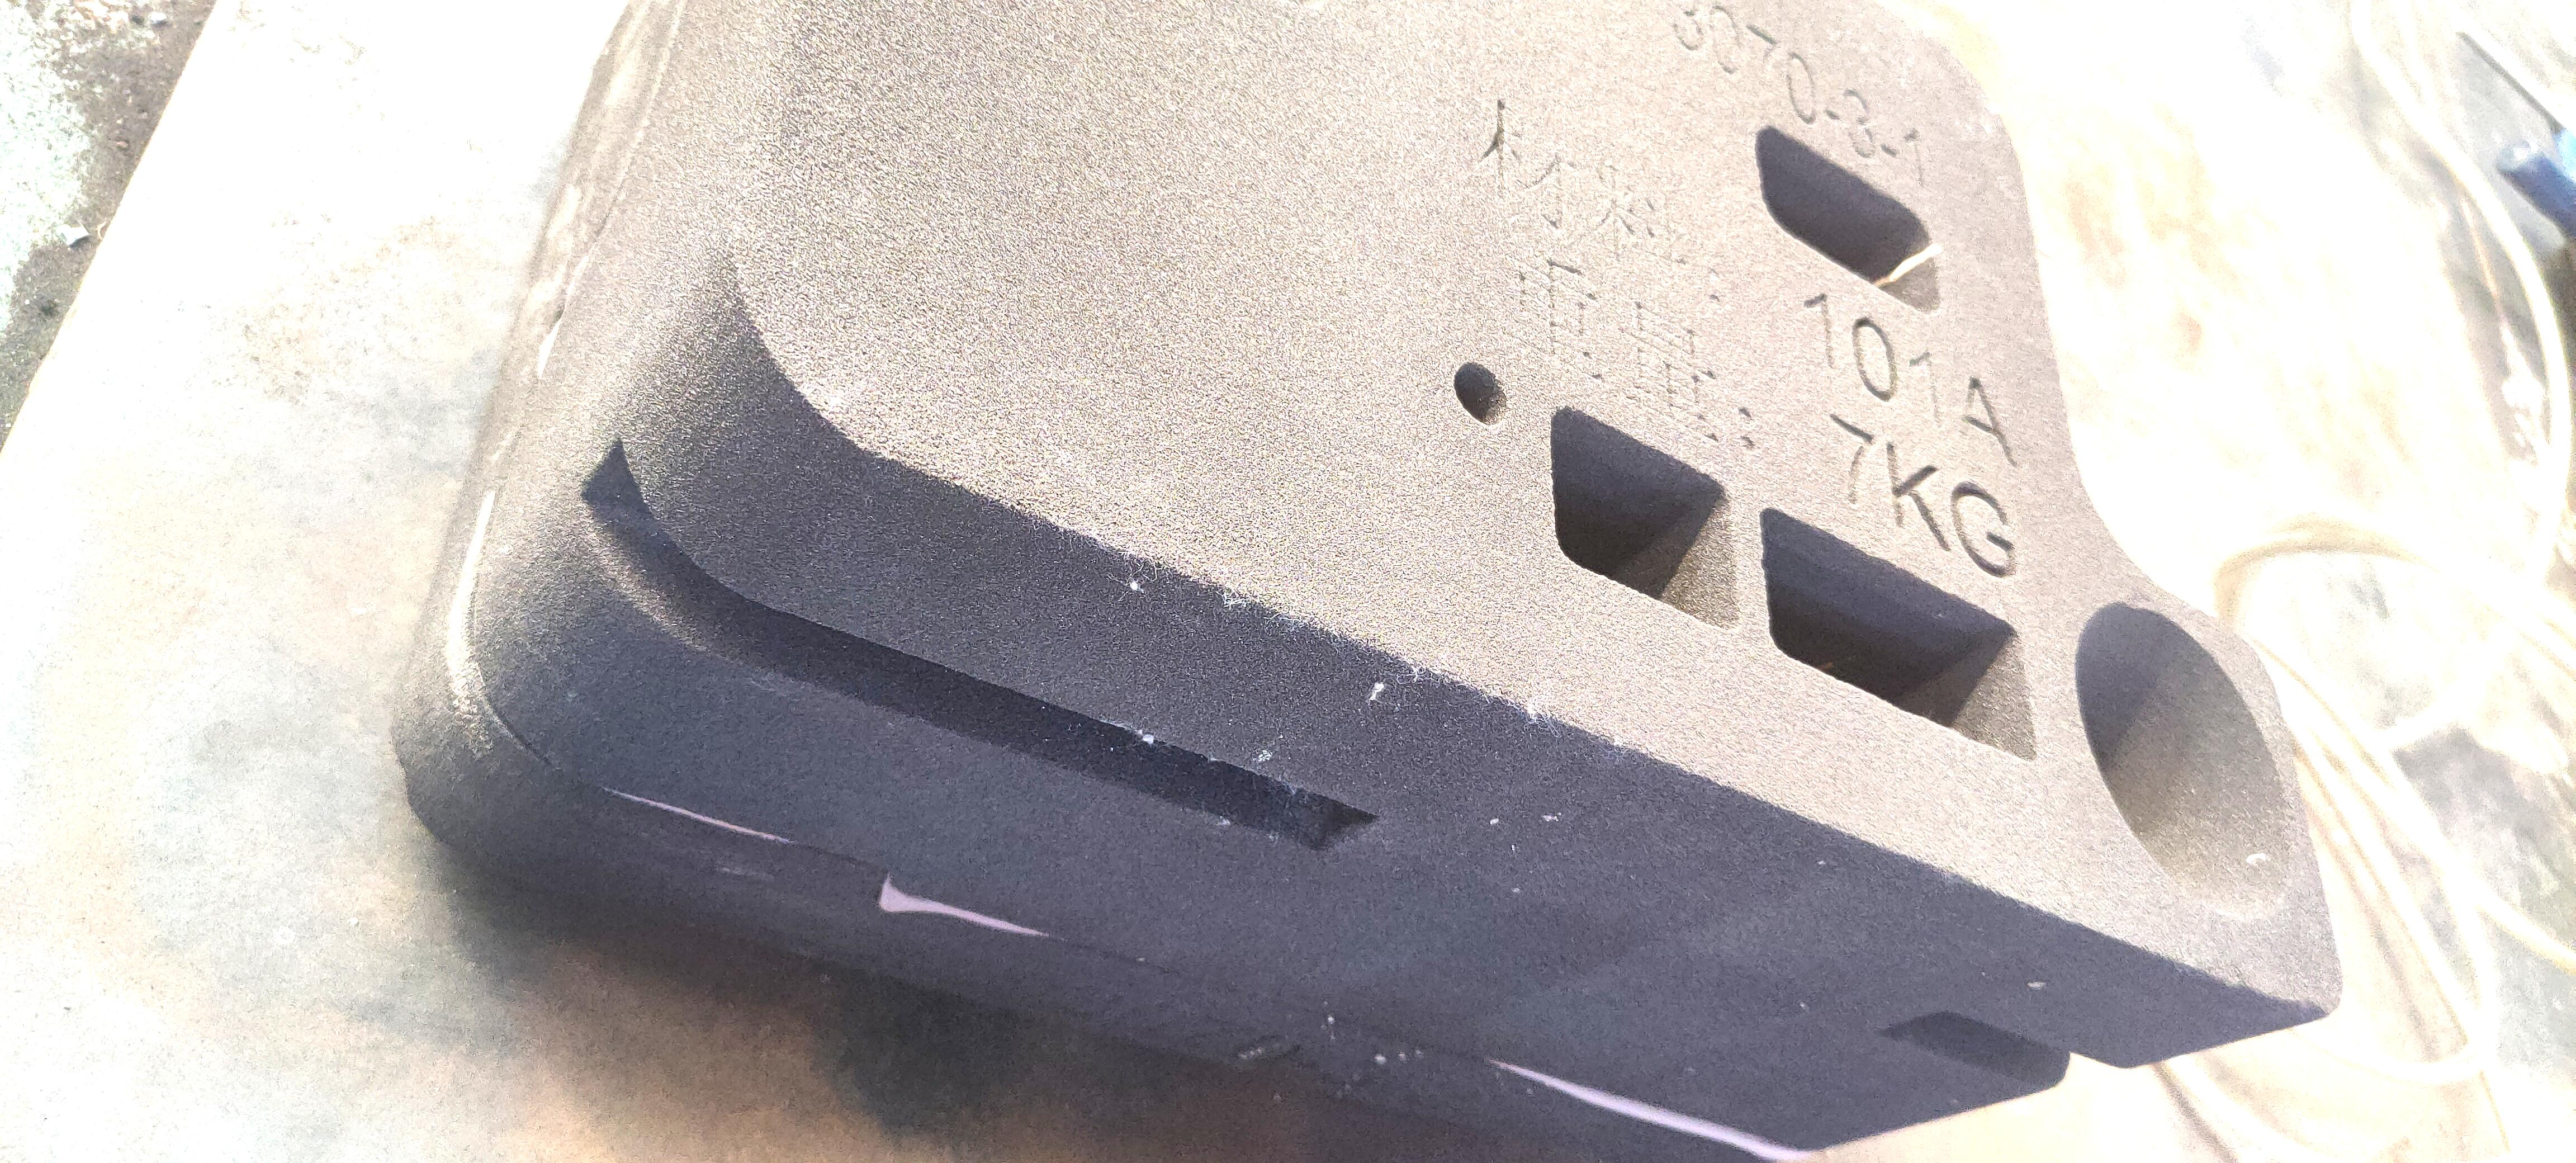pouring hole: (2077, 603, 2292, 922)
